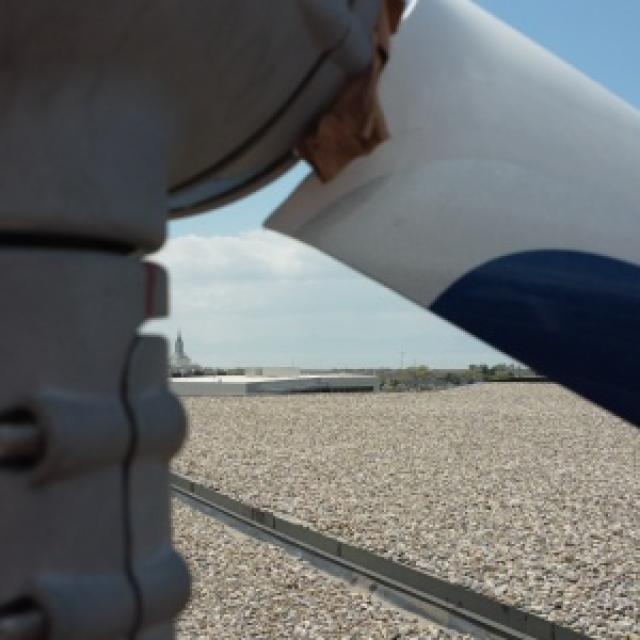healthy: (267, 0, 638, 422)
